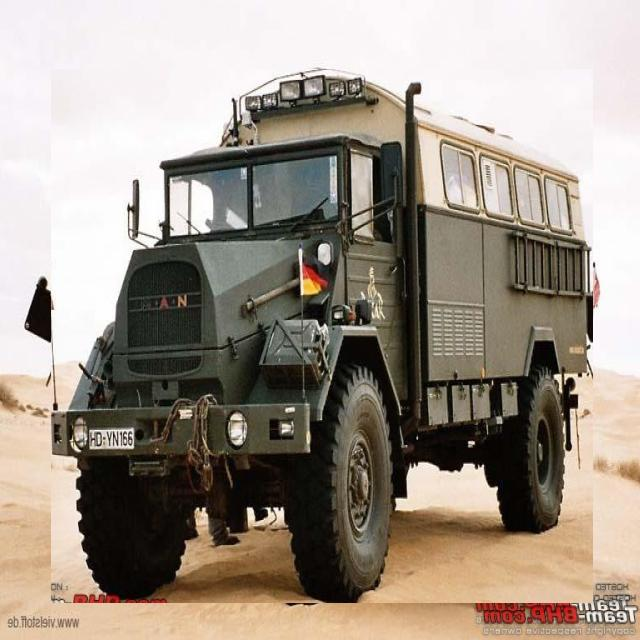truck: (51, 69, 592, 603)
